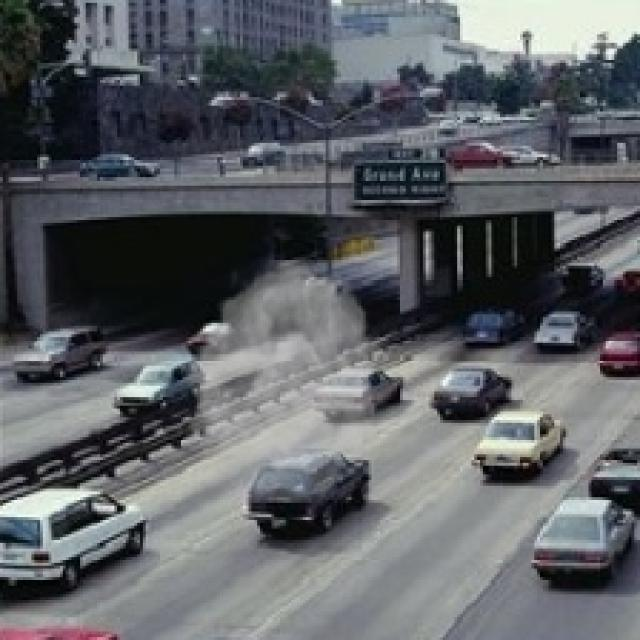Smoke: (177, 260, 392, 503)
